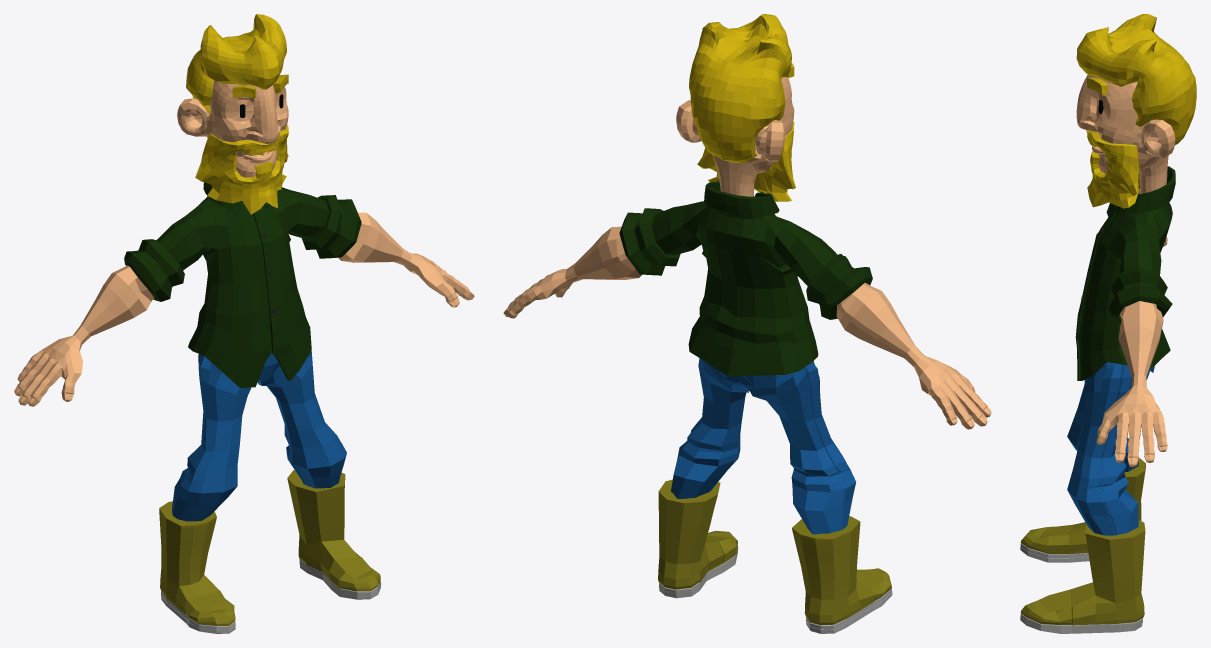
Rendered from VA_Male.obj.
3 views of the same model, side by side, from view 1: azimuth 30°, elevation 25°; view 2: azimuth 150°, elevation 25°; view 3: azimuth 270°, elevation 25° (orthographic). The views are drawn at different scales.
Visible parts, largest first — view 1: bradonja_dugme_5; view 2: bradonja_dugme_5; view 3: bradonja_dugme_5.
Part boxes in pixels (x1,y1,x2,y2): bradonja_dugme_5: [14, 14, 474, 633]; bradonja_dugme_5: [503, 14, 991, 633]; bradonja_dugme_5: [1020, 14, 1196, 633].
Bounding box in the file's own units: 16.9 × 19.88 × 5.65.
